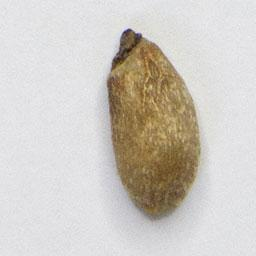defect: (102, 25, 205, 224)
